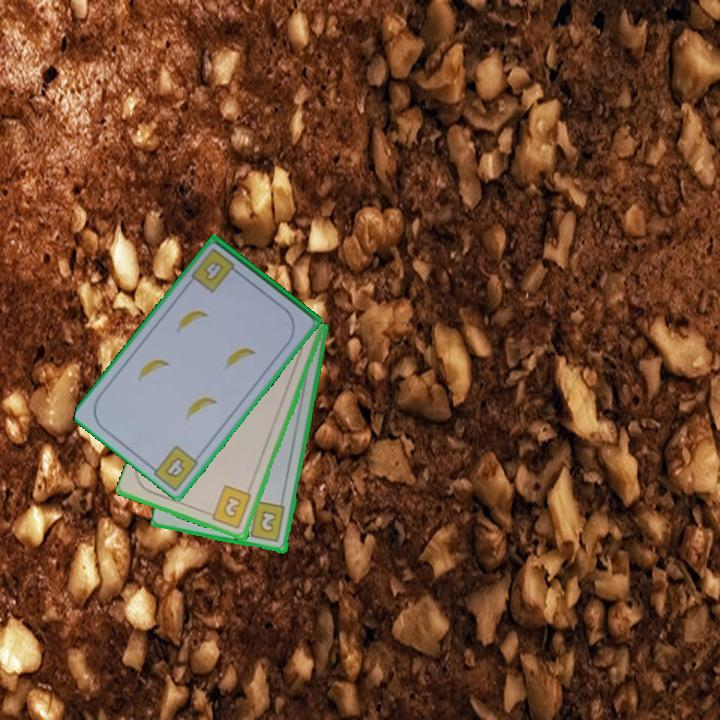2b: (203, 482, 255, 532), (241, 499, 288, 545)
4b: (188, 245, 243, 296), (161, 453, 188, 482)
